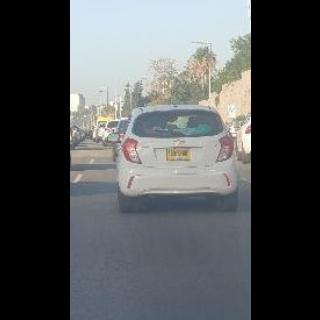LicensePlate: (167, 150, 190, 158)
